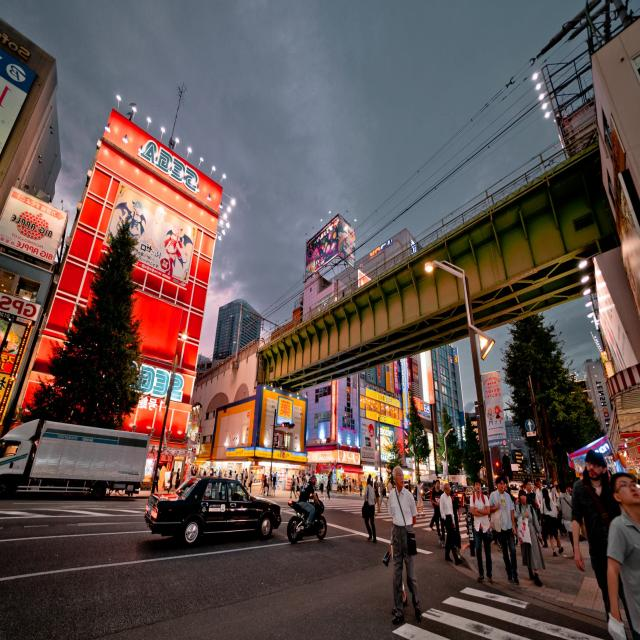adult: (572, 451, 616, 624), (608, 471, 640, 640), (386, 468, 421, 621), (490, 473, 518, 582), (518, 489, 542, 586), (474, 479, 490, 582), (437, 481, 457, 562), (298, 476, 320, 528), (364, 479, 376, 543)
